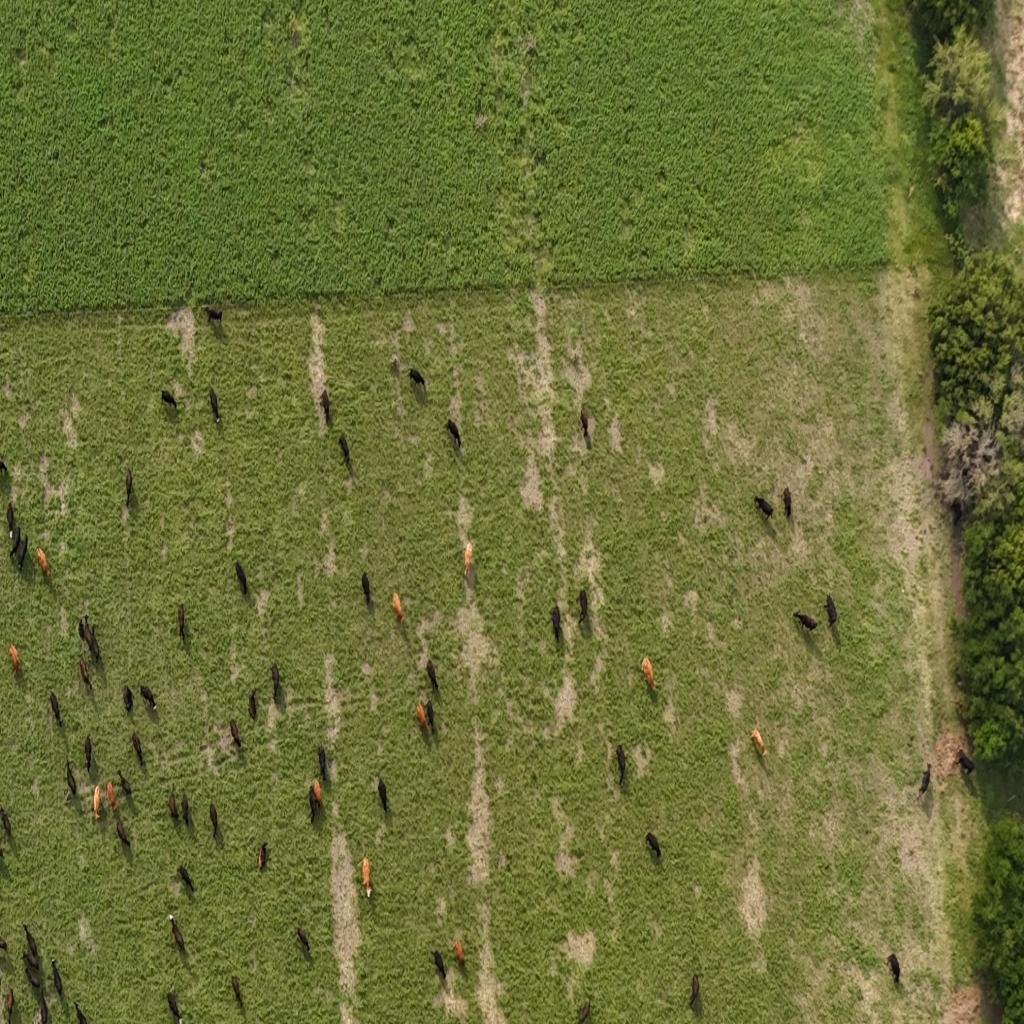cow: (24, 956, 43, 991), (170, 917, 186, 955), (23, 923, 39, 960), (955, 748, 975, 776), (178, 863, 196, 894), (793, 611, 818, 633), (167, 989, 183, 1022), (88, 622, 101, 662), (78, 656, 92, 693), (425, 658, 439, 694), (954, 700, 972, 728), (754, 495, 774, 520), (642, 656, 656, 691), (49, 691, 62, 728), (750, 727, 766, 757), (550, 603, 562, 643), (52, 958, 64, 998), (65, 758, 77, 798), (824, 593, 838, 627), (234, 561, 248, 595), (117, 769, 133, 798), (432, 949, 446, 982), (16, 532, 28, 570), (446, 419, 461, 449), (115, 818, 130, 848), (645, 832, 661, 860), (36, 547, 50, 579), (338, 434, 350, 470), (616, 744, 626, 786), (296, 924, 310, 954), (689, 972, 700, 1010), (209, 386, 220, 424), (887, 952, 900, 984), (140, 685, 156, 711), (919, 762, 931, 796), (131, 731, 143, 765), (231, 975, 243, 1009), (362, 856, 372, 896), (408, 368, 426, 390), (377, 777, 388, 813), (0, 806, 12, 839), (392, 591, 404, 623), (229, 718, 241, 750), (8, 643, 20, 675), (308, 784, 318, 822), (578, 588, 588, 625), (320, 388, 330, 425), (180, 791, 190, 828), (463, 541, 473, 578), (4, 985, 14, 1022), (416, 701, 428, 731), (84, 734, 93, 774), (317, 746, 327, 782), (425, 698, 435, 734), (40, 988, 50, 1024), (161, 389, 177, 411), (177, 603, 186, 642), (361, 571, 371, 606), (576, 999, 590, 1024), (256, 842, 268, 871), (122, 685, 134, 714), (107, 780, 117, 814), (453, 938, 465, 966), (271, 662, 280, 698), (74, 1001, 88, 1024), (312, 778, 322, 810), (782, 486, 792, 518), (580, 405, 589, 440), (168, 791, 178, 822), (951, 498, 962, 526), (204, 307, 222, 324), (6, 501, 15, 535), (210, 802, 218, 839), (125, 468, 133, 505), (93, 784, 101, 820), (248, 690, 257, 722), (78, 617, 87, 643), (0, 935, 9, 957), (390, 353, 400, 372), (0, 459, 8, 476)
